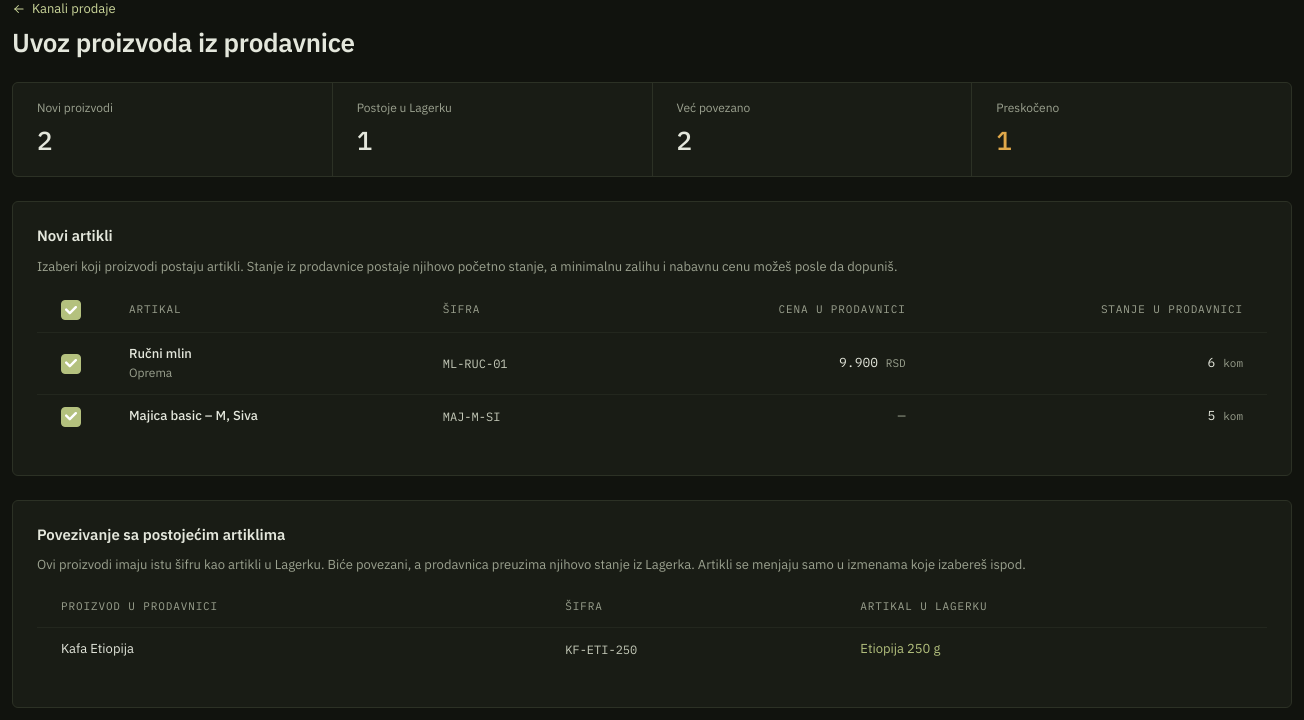
Test: ProductImportPage › SelectAll_Unchecked_LeavesOnlyLinking
Click the checkbox named "Izaberi sve": (71, 310) [61,300,81,320]
(page scrolled)
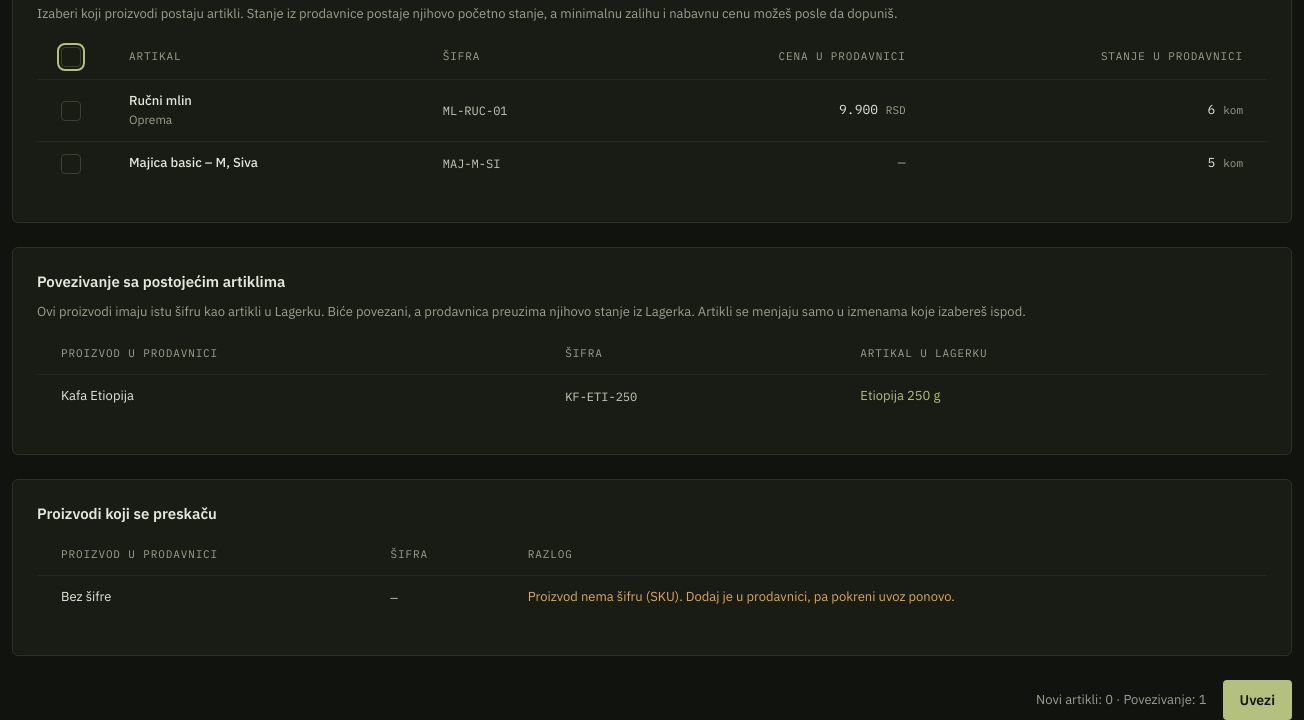
Check: the button "Uvezi" is enabled, box [1222,680,1292,719]
Check: the text "Novi artikli: 0 · Povezivanje: 1" is shown, box [1036,691,1206,710]
